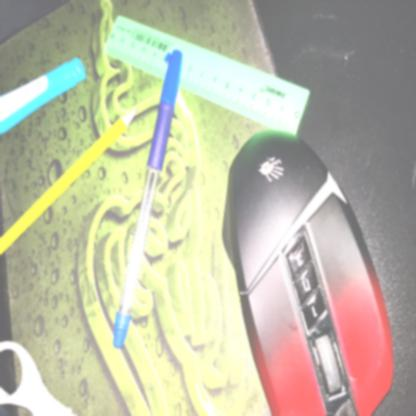Pen: (105, 35, 202, 386)
